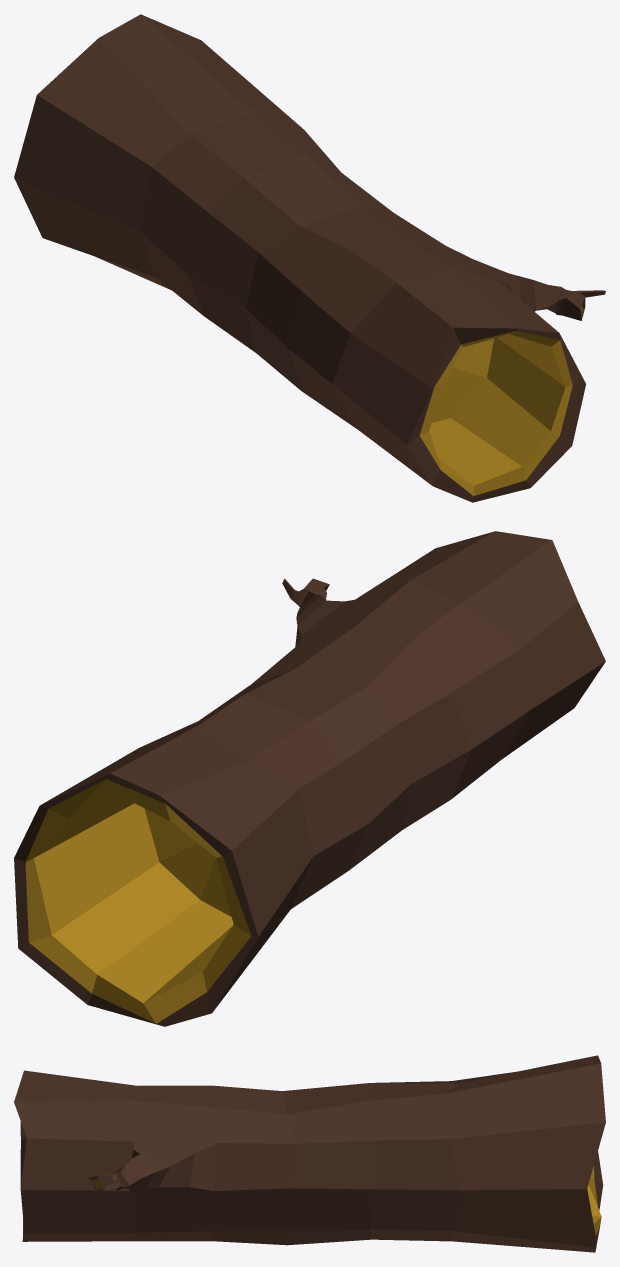
The model's file is log_002.fbx.
The picture shows the model from 3 angles, top to bottom: view 1: azimuth 30°, elevation 25°; view 2: azimuth 150°, elevation 25°; view 3: azimuth 270°, elevation 25°; orthographic projection. The views are drawn at different scales.
Visible parts, largest first — view 1: log_002; view 2: log_002; view 3: log_002.
Boxes of the visible parts, <box> form: log_002: <box>14,14,605,502</box>; log_002: <box>14,531,605,1026</box>; log_002: <box>14,1055,605,1252</box>.
Size of the model in its own units: 477 by 367 by 1088.
